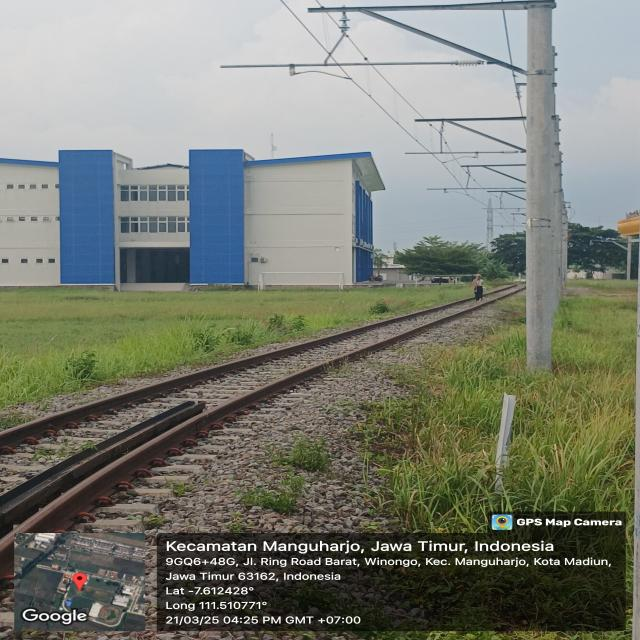rail-detection: (0, 298, 496, 575), (0, 299, 471, 446)
